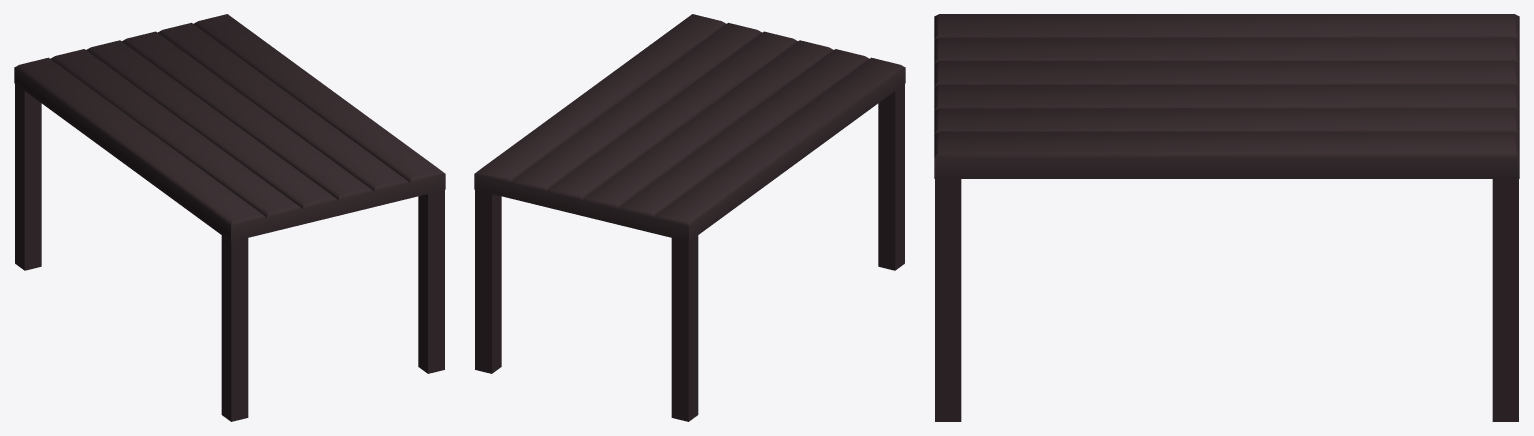
The model's file is outside_table_large.fbx.
3 views of the same model, side by side, from view 1: azimuth 30°, elevation 25°; view 2: azimuth 150°, elevation 25°; view 3: azimuth 270°, elevation 25° (orthographic). The views are drawn at different scales.
Parts seen in each view (by area): view 1: outside_table_large; view 2: outside_table_large; view 3: outside_table_large.
Boxes of the visible parts, x1,y1,x2,y2 form: outside_table_large: (14,14,445,421); outside_table_large: (474,14,905,421); outside_table_large: (934,14,1519,421).
Bounding box in the file's own units: 189 × 108 × 95.89.
